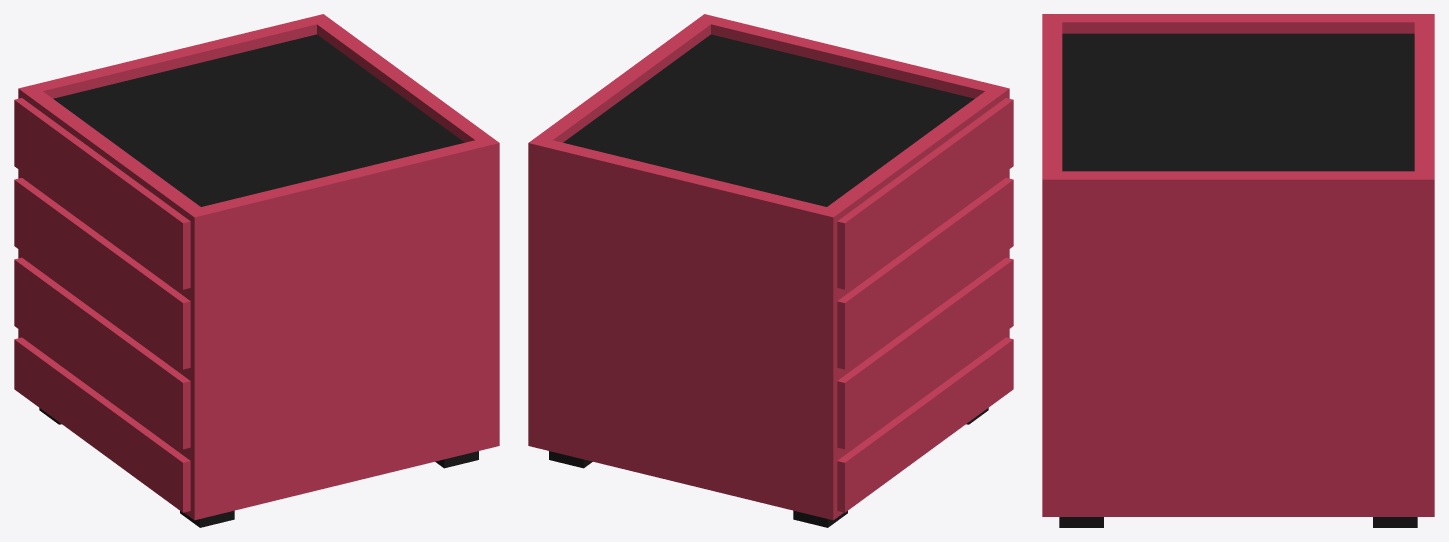
The model's file is ToolBox.fbx.
3 views of the same model, side by side, from view 1: azimuth 30°, elevation 25°; view 2: azimuth 150°, elevation 25°; view 3: azimuth 270°, elevation 25° (orthographic). The views are drawn at different scales.
Parts seen in each view (by area): view 1: ToolBox; view 2: ToolBox; view 3: ToolBox.
Boxes of the visible parts, bbox=[...] form: ToolBox: bbox=[14, 14, 499, 527]; ToolBox: bbox=[528, 14, 1013, 527]; ToolBox: bbox=[1042, 14, 1434, 527].
Bounding box in the file's own units: 205 × 200 × 200.
